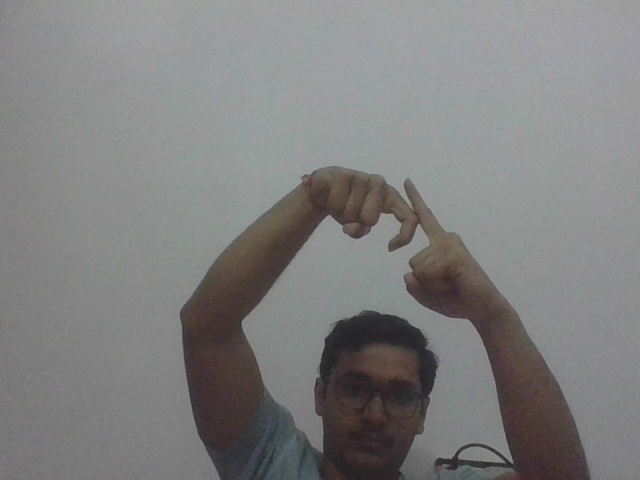K: (311, 164, 493, 312)
